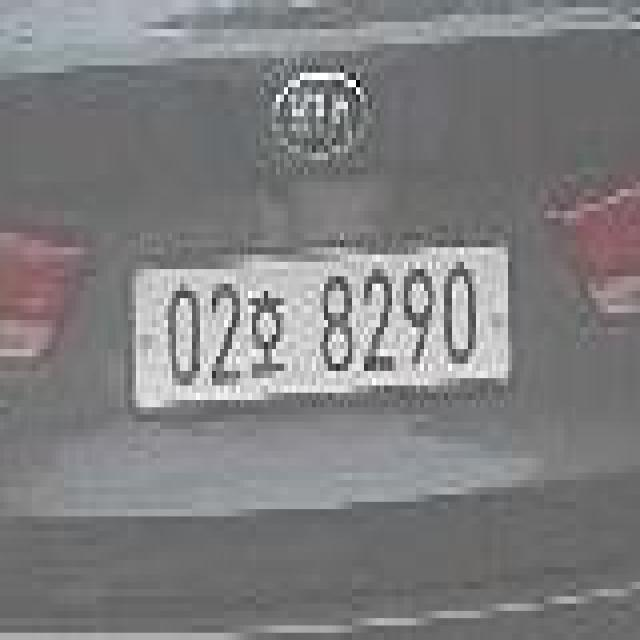illegal_plate: (126, 239, 514, 421)
